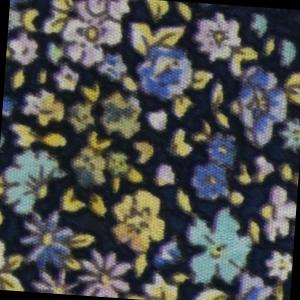Stain: (8, 76, 166, 222)
